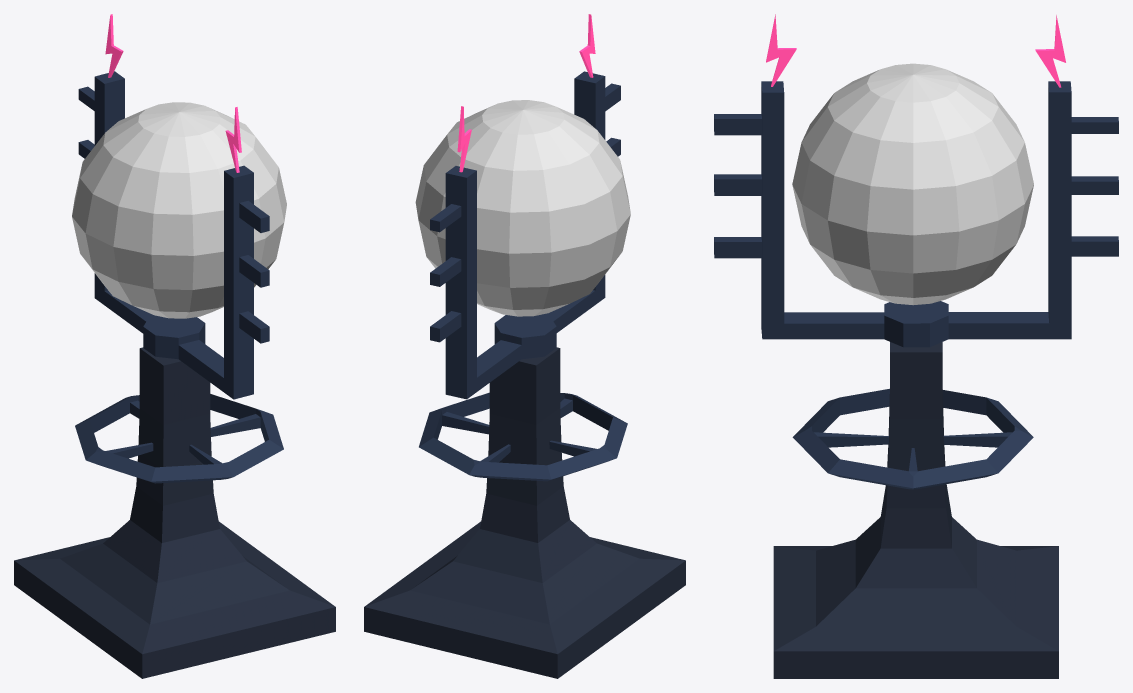
The model's file is Башня 3.fbx.
3 views of the same model, side by side, from view 1: azimuth 30°, elevation 25°; view 2: azimuth 150°, elevation 25°; view 3: azimuth 270°, elevation 25° (orthographic). The views are drawn at different scales.
Visible parts, largest first — view 1: Cube, Sphere, Circle, Torus, Plane.001; view 2: Cube, Sphere, Circle, Torus; view 3: Cube, Sphere, Circle, Torus, Plane.001, Plane.
Part boxes in pixels (bbox=[...]): Cube: bbox=[14, 347, 335, 678]; Sphere: bbox=[72, 102, 286, 318]; Circle: bbox=[78, 71, 269, 399]; Torus: bbox=[75, 394, 283, 483]; Plane.001: bbox=[225, 107, 241, 172]; Cube: bbox=[364, 347, 685, 678]; Sphere: bbox=[415, 100, 630, 316]; Circle: bbox=[430, 71, 620, 399]; Torus: bbox=[419, 392, 627, 481]; Cube: bbox=[773, 342, 1058, 678]; Sphere: bbox=[792, 63, 1033, 305]; Circle: bbox=[714, 81, 1118, 347]; Torus: bbox=[792, 388, 1033, 489]; Plane.001: bbox=[766, 14, 796, 86]; Plane: bbox=[1035, 15, 1065, 87].
Bounding box in the file's own units: 92.68 × 250 × 150.
